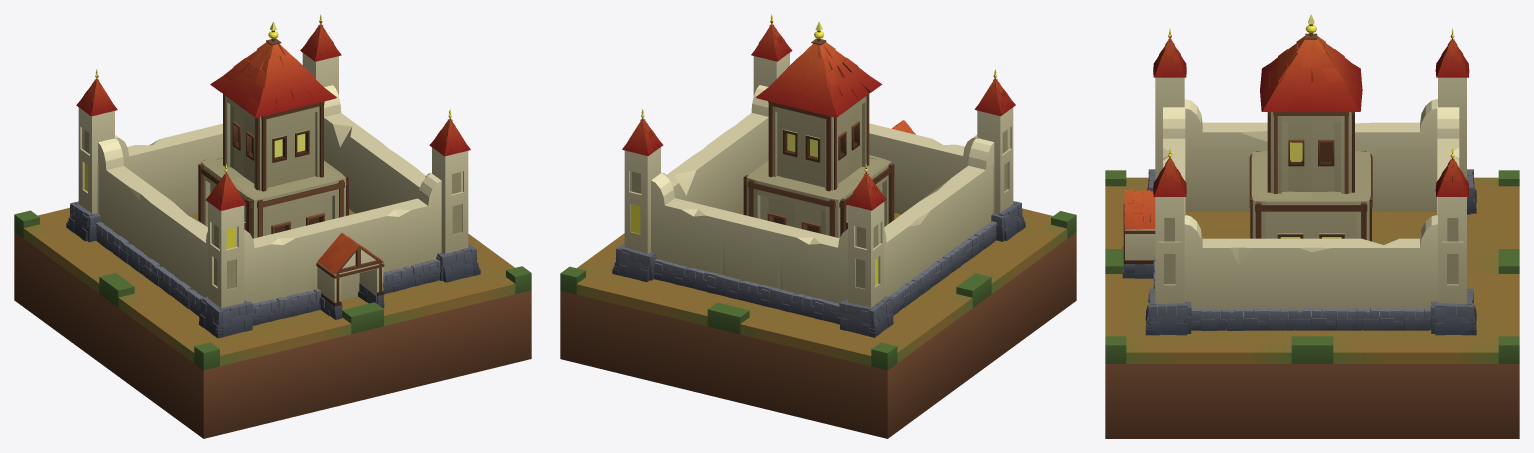
3 views of the same model, side by side, from view 1: azimuth 30°, elevation 25°; view 2: azimuth 150°, elevation 25°; view 3: azimuth 270°, elevation 25° (orthographic). The views are drawn at different scales.
Visible parts, largest first — view 1: case_depart_01; view 2: case_depart_01; view 3: case_depart_01.
Boxes of the visible parts, x1,y1,x2,y2 form: case_depart_01: [14, 14, 531, 438]; case_depart_01: [560, 14, 1076, 438]; case_depart_01: [1105, 14, 1519, 438].
Bounding box in the file's own units: 1000 × 899 × 1000.
